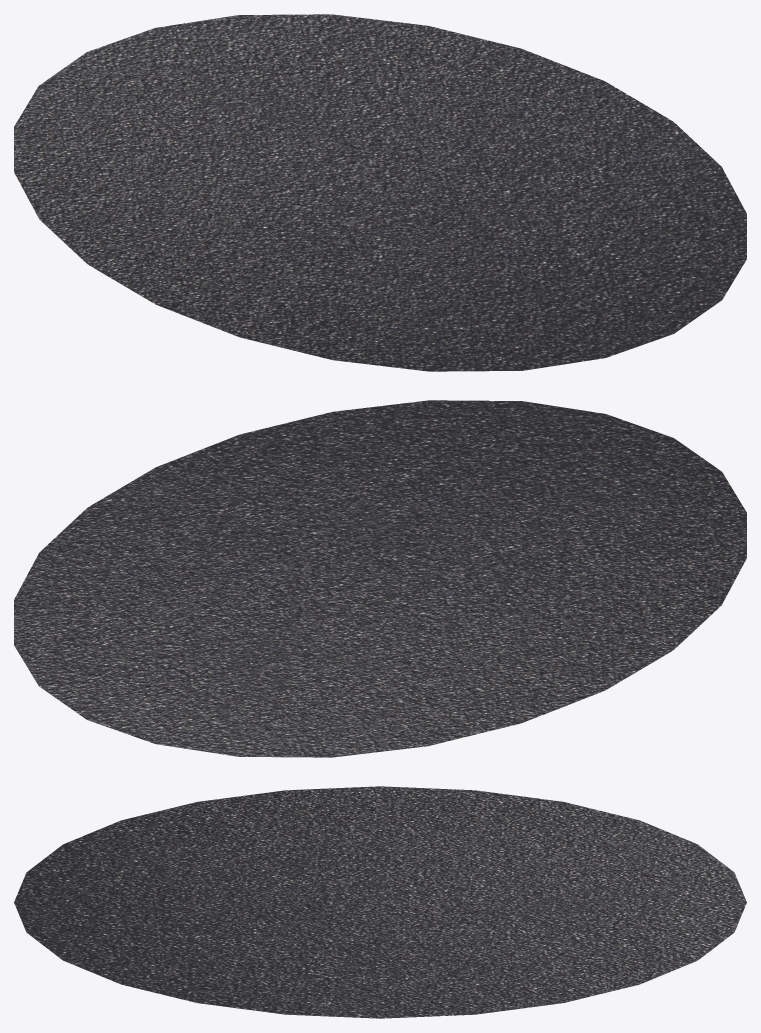
The model's file is port_cover.fbx.
3 views of the same model, one above another, from view 1: azimuth 30°, elevation 25°; view 2: azimuth 150°, elevation 25°; view 3: azimuth 270°, elevation 25° (orthographic). The views are drawn at different scales.
Visible parts, largest first — view 1: pDisc1; view 2: pDisc1; view 3: pDisc1.
Part boxes in pixels (left/top/right/bottom): pDisc1: left=14, top=14, right=746, bottom=371; pDisc1: left=14, top=400, right=746, bottom=757; pDisc1: left=14, top=786, right=746, bottom=1018.
Bounding box in the file's own units: 1.5 × 0 × 2.
1 material, 1 textured.
